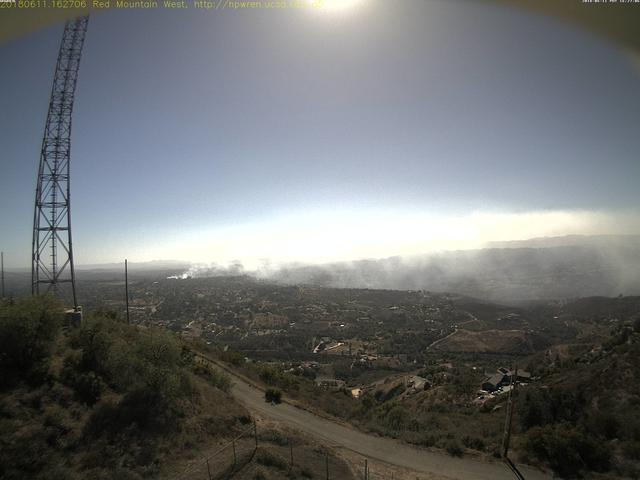smoke: (165, 241, 510, 293)
